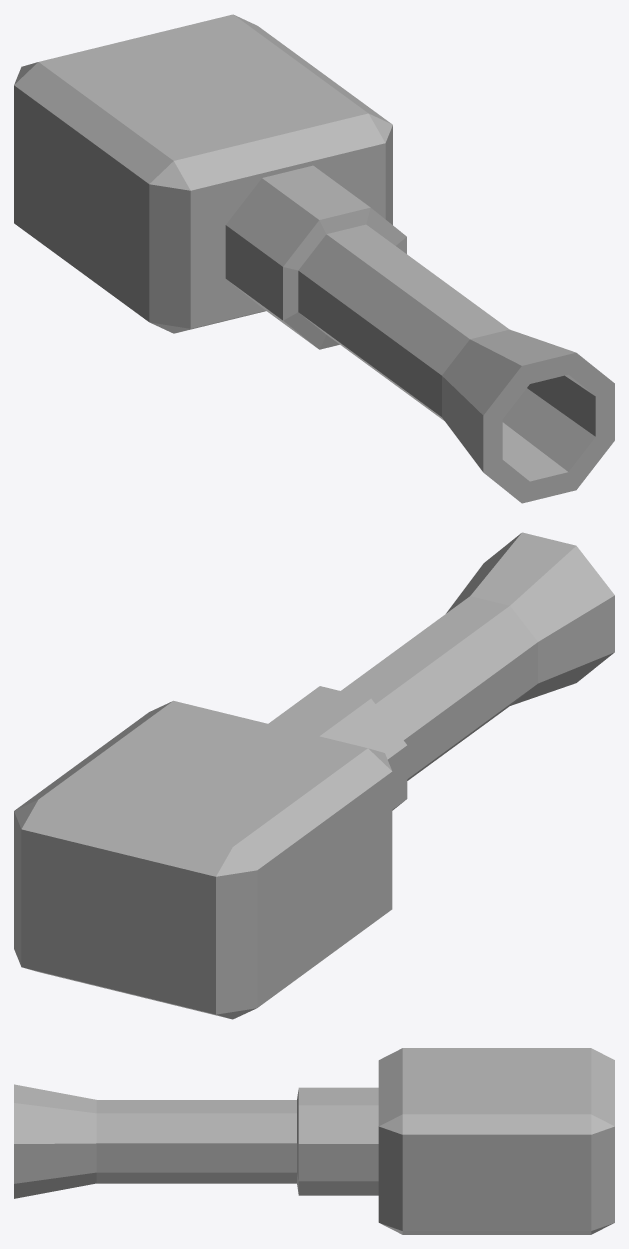
Rendered from BigT_Gun.fbx.
3 views of the same model, one above another, from view 1: azimuth 30°, elevation 25°; view 2: azimuth 150°, elevation 25°; view 3: azimuth 270°, elevation 25° (orthographic). The views are drawn at different scales.
Visible parts, largest first — view 1: Gun_BigT; view 2: Gun_BigT; view 3: Gun_BigT.
Boxes of the visible parts, x1=… form: Gun_BigT: x1=14, y1=14, x2=614, y2=503; Gun_BigT: x1=14, y1=532, x2=614, y2=1019; Gun_BigT: x1=14, y1=1048, x2=614, y2=1234.
Bounding box in the file's own units: 59.12 × 40.05 × 181.
